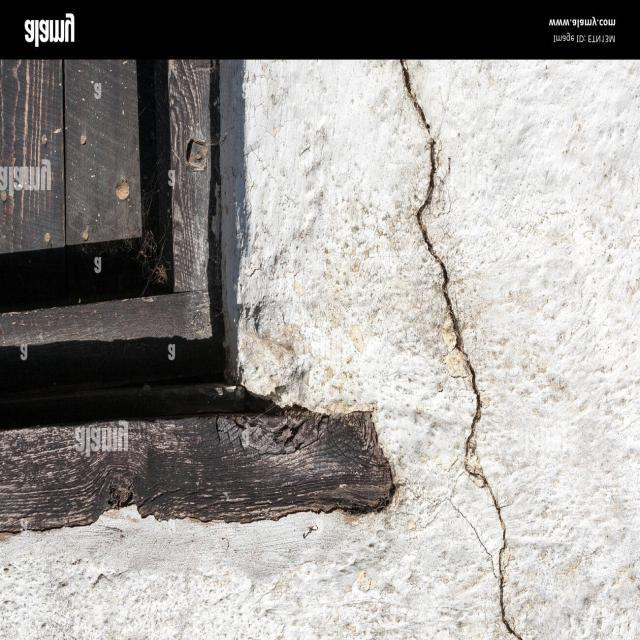Crack: (397, 59, 524, 638)
